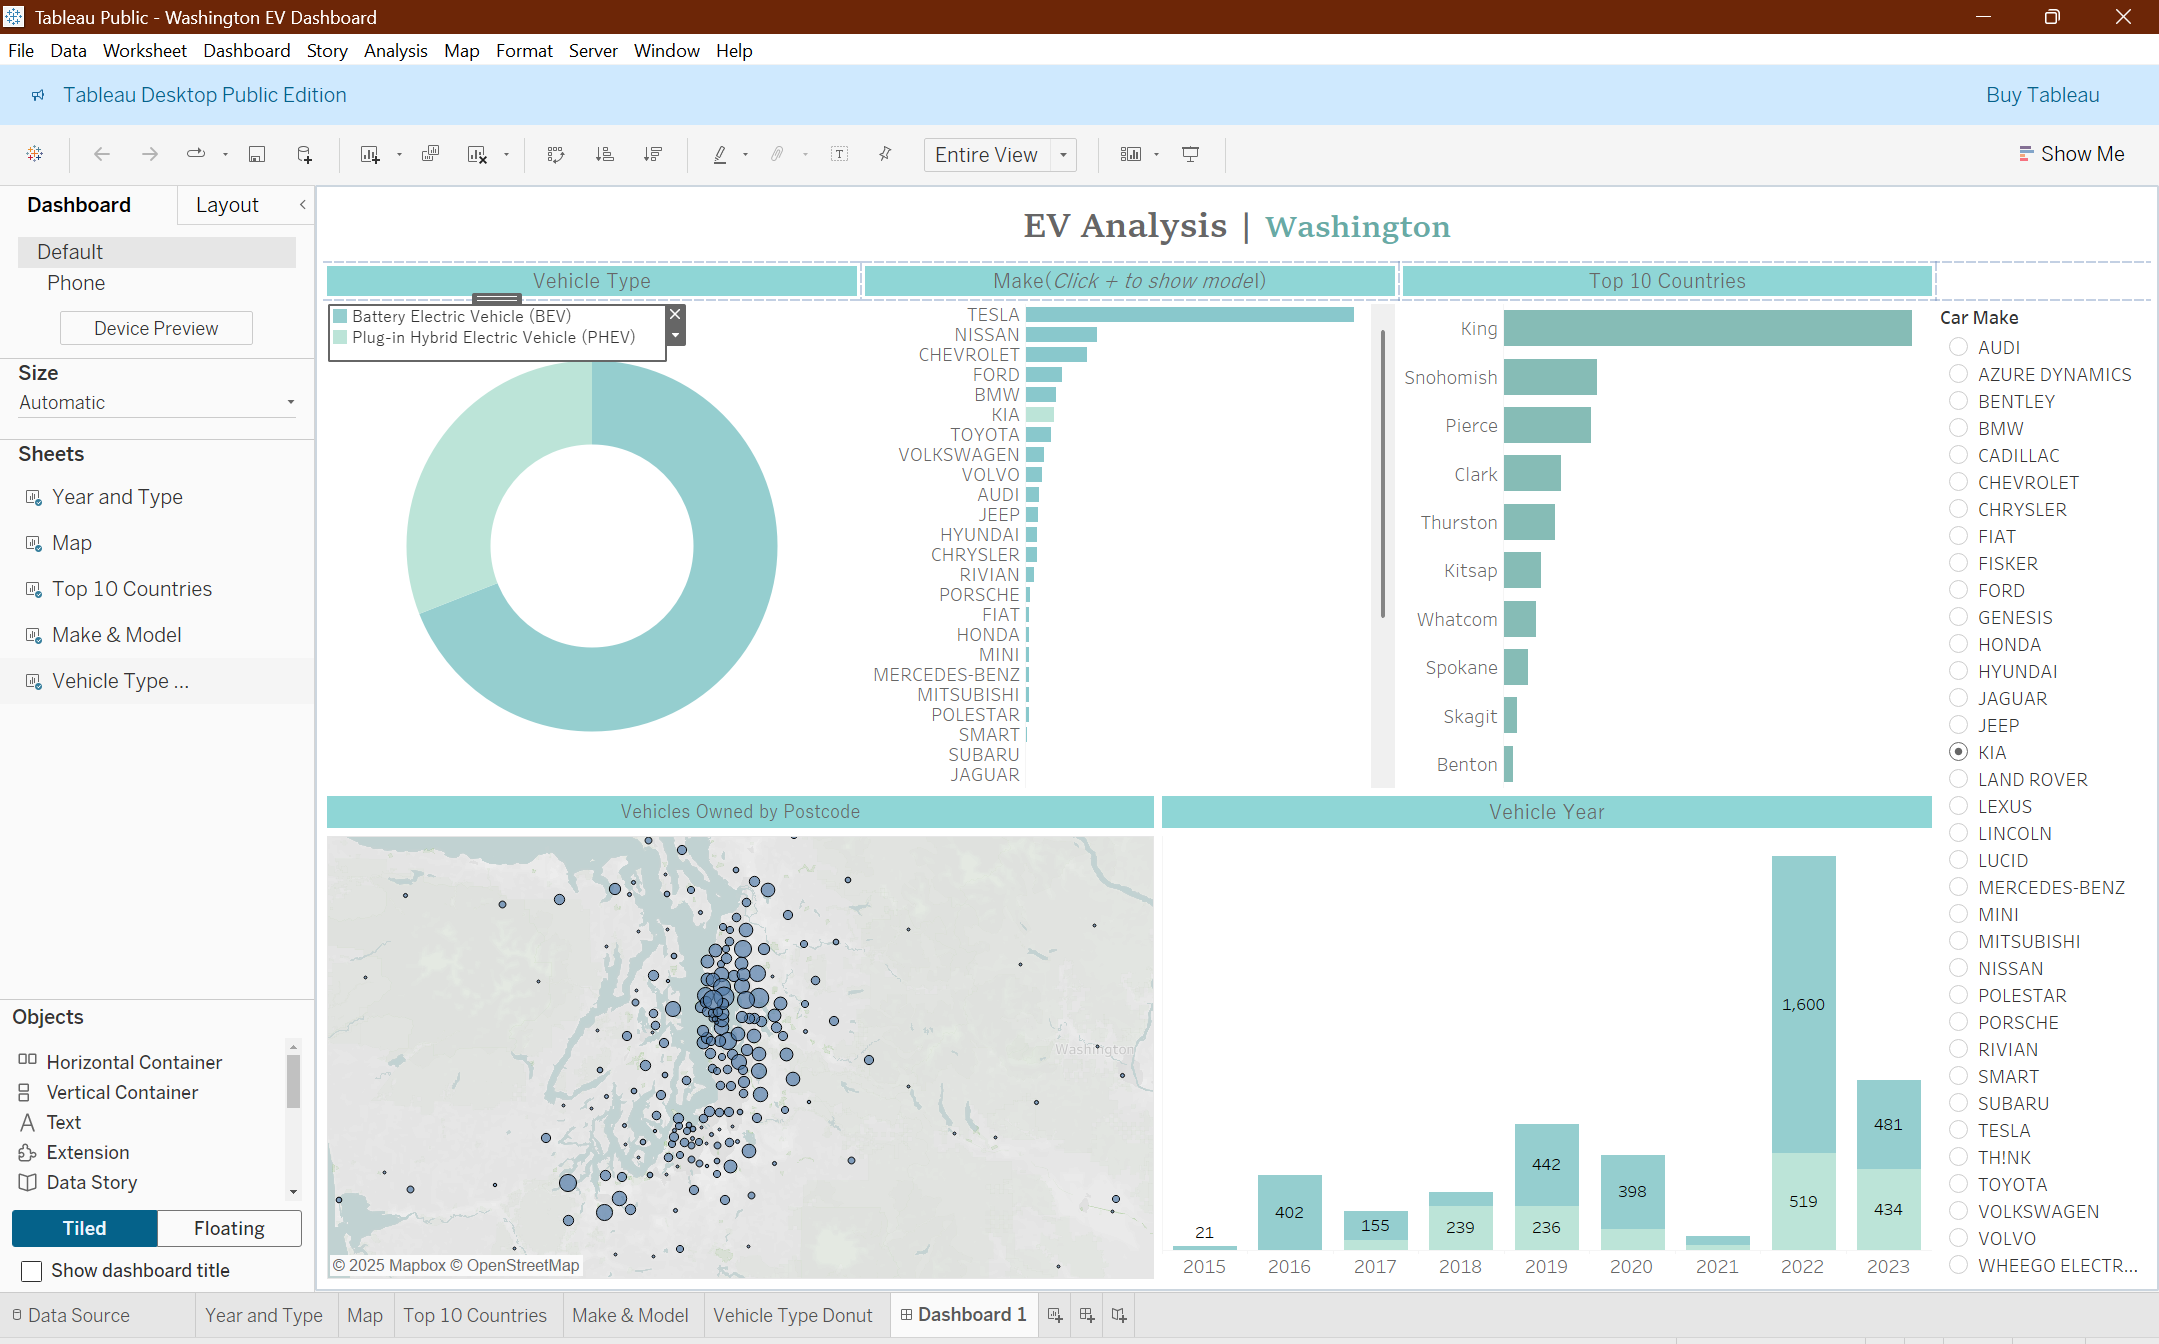

This screenshot's page, from the dashboard's own definition file:
{"tool":"tableau","page":{"name":"Dashboard 1","canvas":[1000,1000],"units":"permille","ordinal":0},"visuals":[{"type":"text","box":[4.3,7.2,991.3,62.6]},{"type":"text","box":[4.3,69.8,291.8,34.3]},{"type":"text","box":[296.1,69.8,291.8,34.3]},{"type":"text","box":[587.9,69.8,291.2,34.3]},{"type":"blank","box":[879.1,69.8,116.6,34.3]},{"type":"worksheet","title":"Vehicle Type Donut","mark":"Pie","rows":["Calculation_1233423392810053636","Calculation_1233423392810053636"],"box":[4.3,104,291.8,444.8]},{"type":"worksheet","title":"Make & Model","mark":"Automatic","rows":["Make"],"cols":["DOL Vehicle ID"],"box":[296.1,104,291.8,444.8]},{"type":"worksheet","title":"Top 10 Countries","mark":"Automatic","rows":["County"],"cols":["DOL Vehicle ID"],"box":[587.9,104,291.2,444.8]},{"type":"parameter","param":"[Parameters].[Parameter 1]","box":[879.1,104.1,116.6,888.7]},{"type":"legend","title":"Vehicle Type Donut","param":"[federated.06fvgbn1ytzduw1dgw35h0tz03yi].[none:Electric Vehicle Type:nk]","box":[8.1,109.8,181.7,48]},{"type":"text","box":[4.3,548.4,453,36.7]},{"type":"text","box":[457.4,548.4,421.7,36.7]},{"type":"worksheet","title":"Map","mark":"Automatic","box":[4.3,585.1,453,407.6]},{"type":"worksheet","title":"Year and Type","mark":"Bar","rows":["DOL Vehicle ID"],"cols":["Model Year"],"box":[457.4,585.1,421.7,407.6]}]}

Visuals, with their boxes on the dashboard's canvas, which has no fixed pixel size, in thousandths of its width and height (x1, y1, x2, y2). These are canvas units, not pixel positions in the 2159x1344 screenshot, which may show the page scaled, cropped or inside an application window:
text: select_region(4, 7, 996, 70)
text: select_region(4, 70, 296, 104)
text: select_region(296, 70, 588, 104)
text: select_region(588, 70, 879, 104)
blank: select_region(879, 70, 996, 104)
"Vehicle Type Donut" worksheet (Pie marks): select_region(4, 104, 296, 549)
"Make & Model" worksheet: select_region(296, 104, 588, 549)
"Top 10 Countries" worksheet: select_region(588, 104, 879, 549)
parameter: select_region(879, 104, 996, 993)
"Vehicle Type Donut" legend: select_region(8, 110, 190, 158)
text: select_region(4, 548, 457, 585)
text: select_region(457, 548, 879, 585)
"Map" worksheet: select_region(4, 585, 457, 993)
"Year and Type" worksheet (Bar marks): select_region(457, 585, 879, 993)
